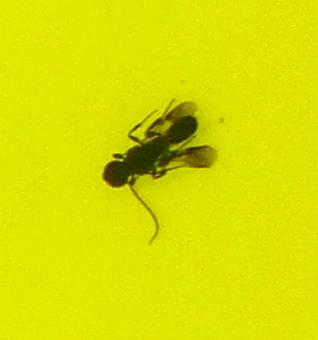Hymenoptera: (100, 100, 218, 240)
